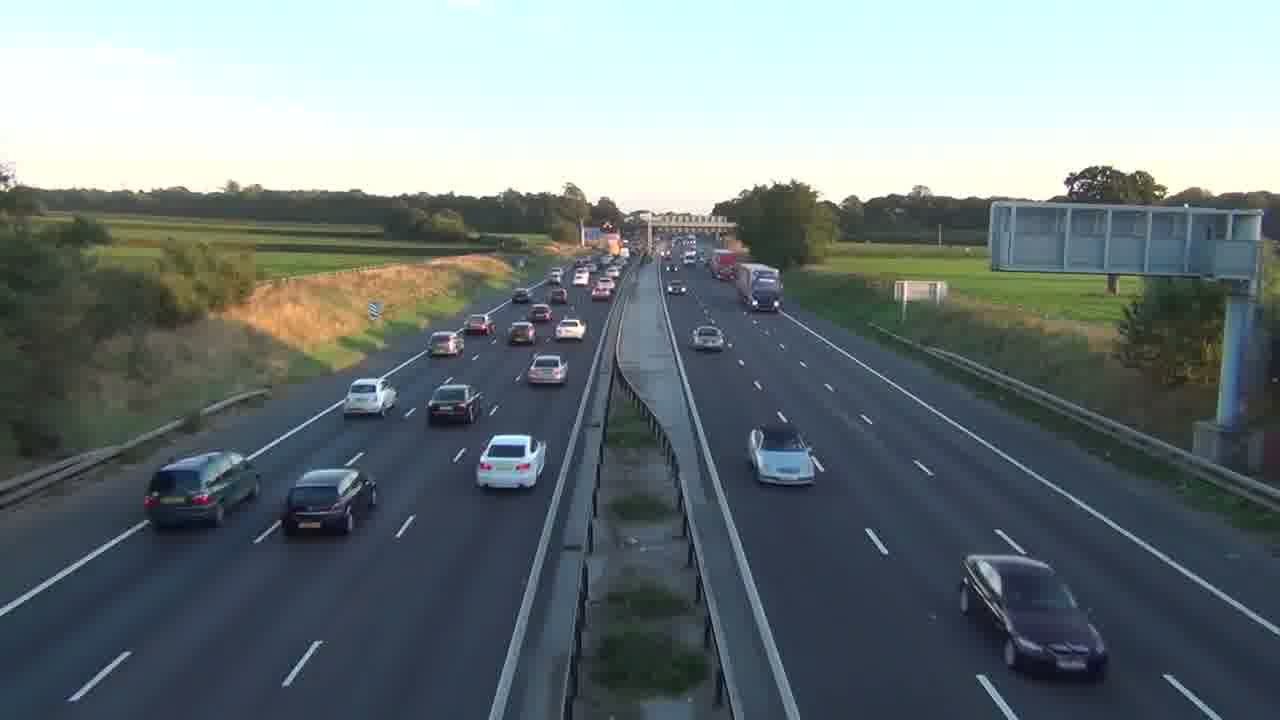car: (958, 552, 1109, 680), (143, 449, 260, 529), (281, 465, 375, 536), (748, 424, 824, 485), (475, 433, 548, 491), (427, 380, 483, 425), (343, 377, 398, 418), (527, 353, 568, 387), (690, 324, 726, 353), (428, 331, 464, 358), (554, 317, 587, 340), (509, 321, 535, 345)
truck: (958, 552, 1109, 680)
